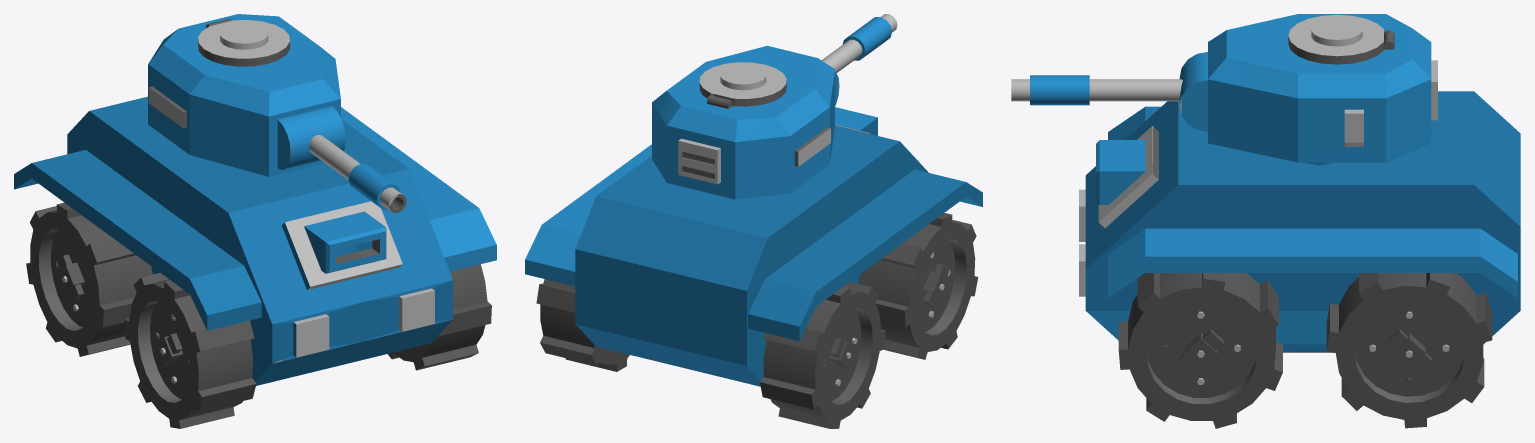
File: PTank.obj
The picture shows the model from 3 angles, left to right: view 1: azimuth 30°, elevation 25°; view 2: azimuth 150°, elevation 25°; view 3: azimuth 270°, elevation 25°; orthographic projection. The views are drawn at different scales.
Parts seen in each view (by area): view 1: TankFree_Wheel_b_right_メッシュ.004; view 2: TankFree_Wheel_b_right_メッシュ.004; view 3: TankFree_Wheel_b_right_メッシュ.004.
Part boxes in pixels (<box>): TankFree_Wheel_b_right_メッシュ.004: <box>14,14,496,428</box>; TankFree_Wheel_b_right_メッシュ.004: <box>525,14,982,428</box>; TankFree_Wheel_b_right_メッシュ.004: <box>1011,14,1520,428</box>.
Size of the model in its own units: 1.93 by 1.93 by 2.74.
Materials: 1 (1 with a texture image).
